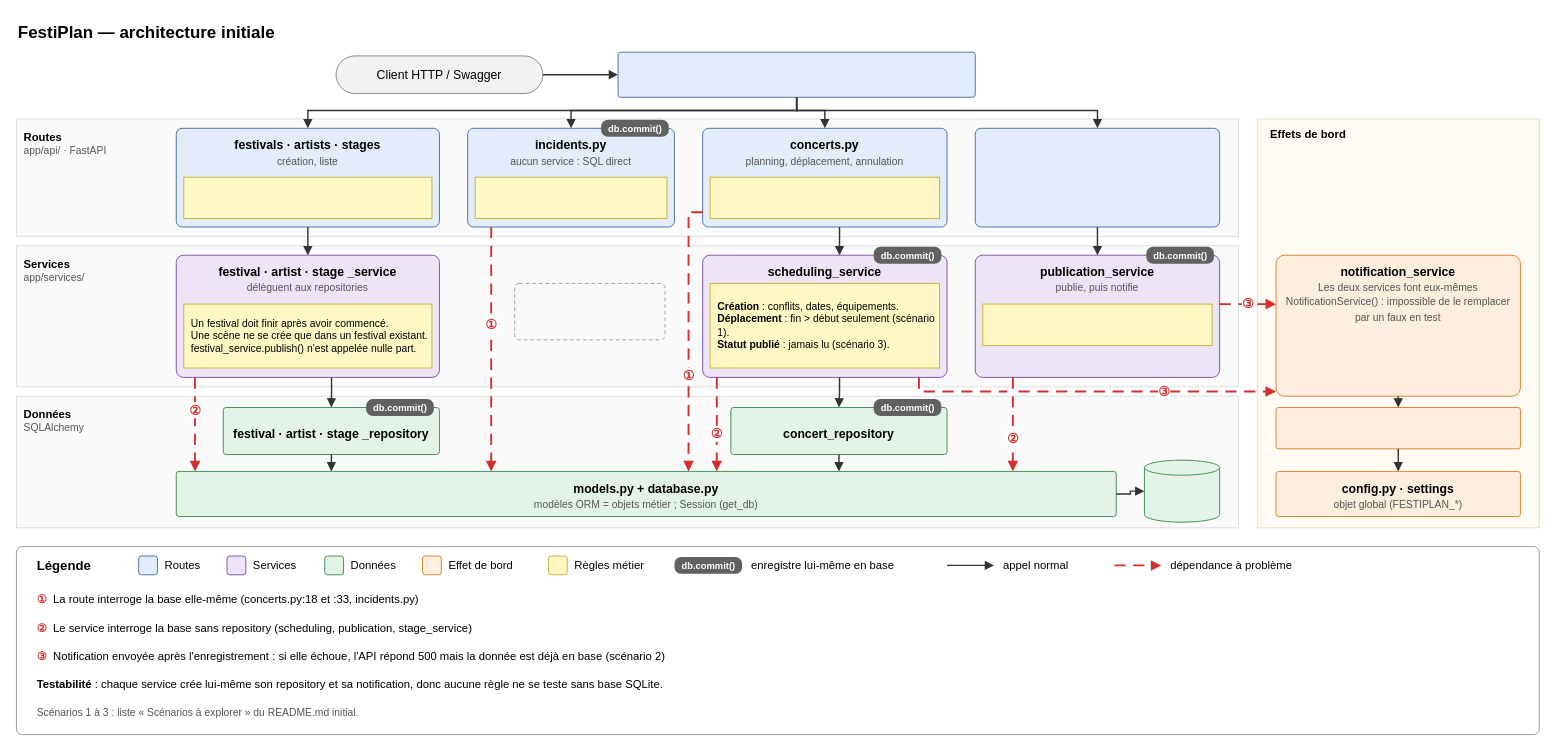
Some shapes in this 1556 by 751 pixel diagram are drawn without their labels. Each missing label, with the centre of its shape:
"Aucun service incidents (n'existe pas)" goes at (x=589, y=311).
"Aucune règle : publie même si des concerts se chevauchent" goes at (x=1097, y=324).
"Capacité > 0 : Pydantic seulement" goes at (x=307, y=197).
"Concert existant" goes at (x=570, y=197).
"email_sender peut lever RuntimeError" goes at (x=1397, y=428).
"festivals.py · /publish échec de notification → 500" goes at (x=1097, y=177).
"Fin > début (en double avec le service)" goes at (x=824, y=197).
"main.py monte les routes ; crée les tables à l'import" goes at (x=796, y=74).
"SQLite" goes at (x=1182, y=490).
